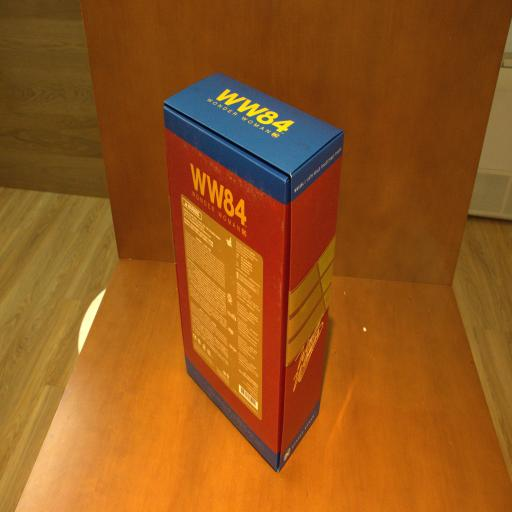WonderWoman: (162, 68, 345, 476)
